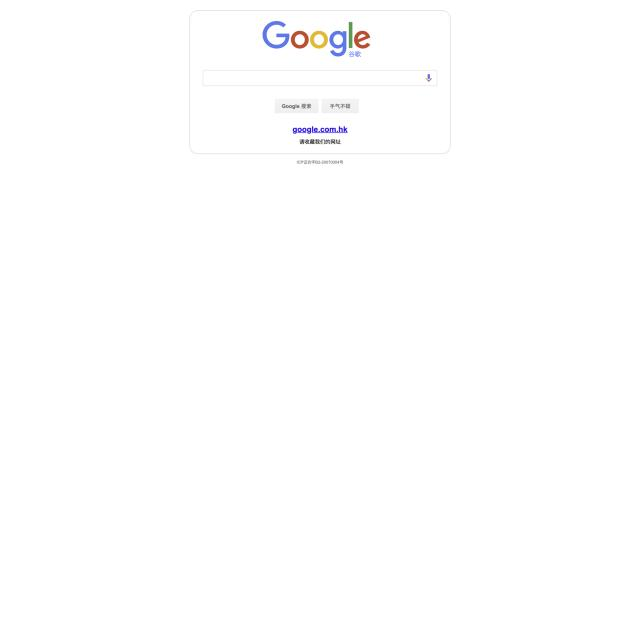input: (202, 68, 439, 87)
logo: (260, 18, 378, 62)
